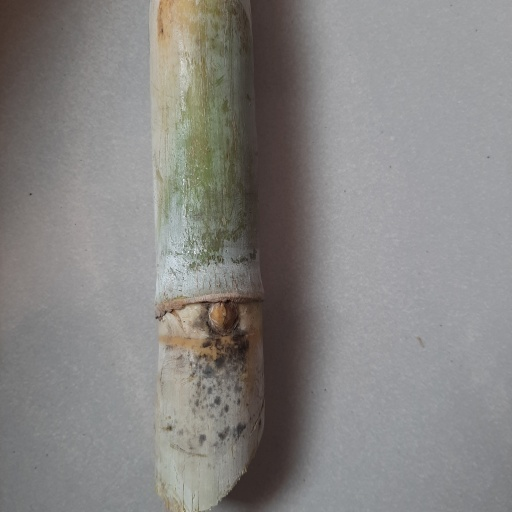Bud: (205, 301, 241, 335)
